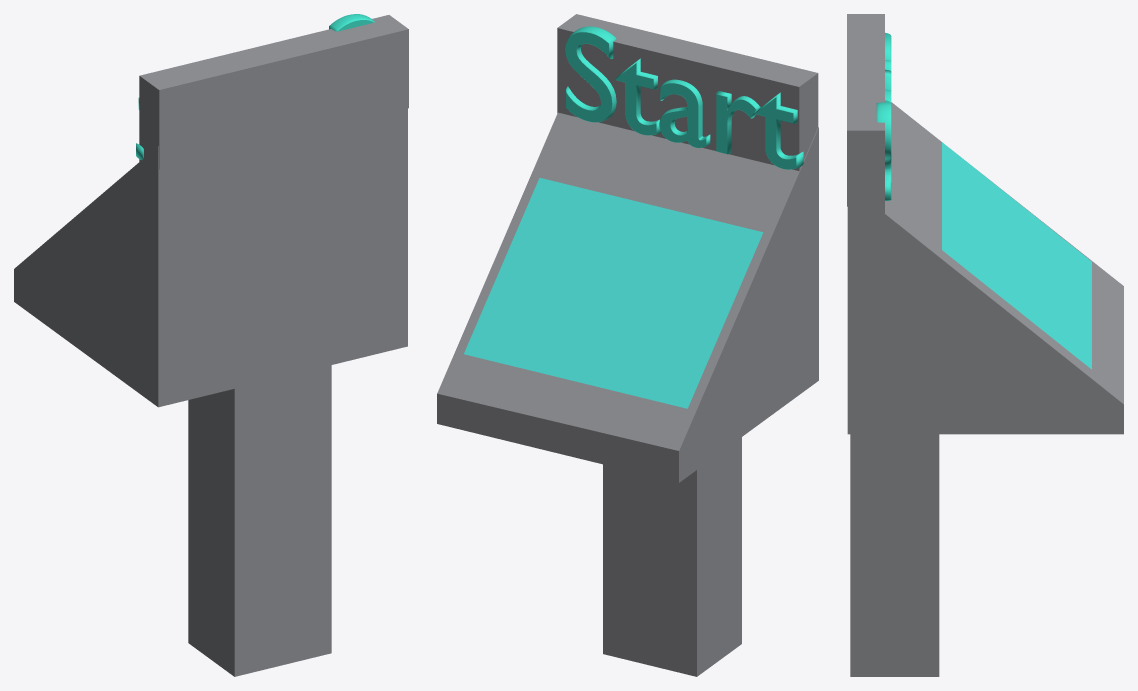
Rendered from StartLevel.fbx.
3 views of the same model, side by side, from view 1: azimuth 30°, elevation 25°; view 2: azimuth 150°, elevation 25°; view 3: azimuth 270°, elevation 25° (orthographic). The views are drawn at different scales.
Parts seen in each view (by area): view 1: Cube.002, Cube.001, Cube.003, S; view 2: Cube.002, Plane, Cube.001, Cube.003, S; view 3: Cube.002, Cube.001, Plane, Cube.003, S.
Part boxes in pixels (box(x1,y1,x2,y2)): Cube.002: box(14, 108, 407, 407); Cube.001: box(188, 365, 331, 676); Cube.003: box(139, 15, 408, 168); S: box(136, 14, 374, 160); Cube.002: box(437, 112, 818, 482); Plane: box(464, 177, 763, 408); Cube.001: box(603, 437, 741, 676); Cube.003: box(557, 14, 818, 170); S: box(565, 26, 803, 169); Cube.002: box(847, 102, 1123, 434); Cube.001: box(850, 434, 939, 676); Plane: box(942, 142, 1091, 369); Cube.003: box(847, 14, 884, 223); S: box(876, 32, 891, 200).
Size of the model in its own units: 201 by 470 by 200.
